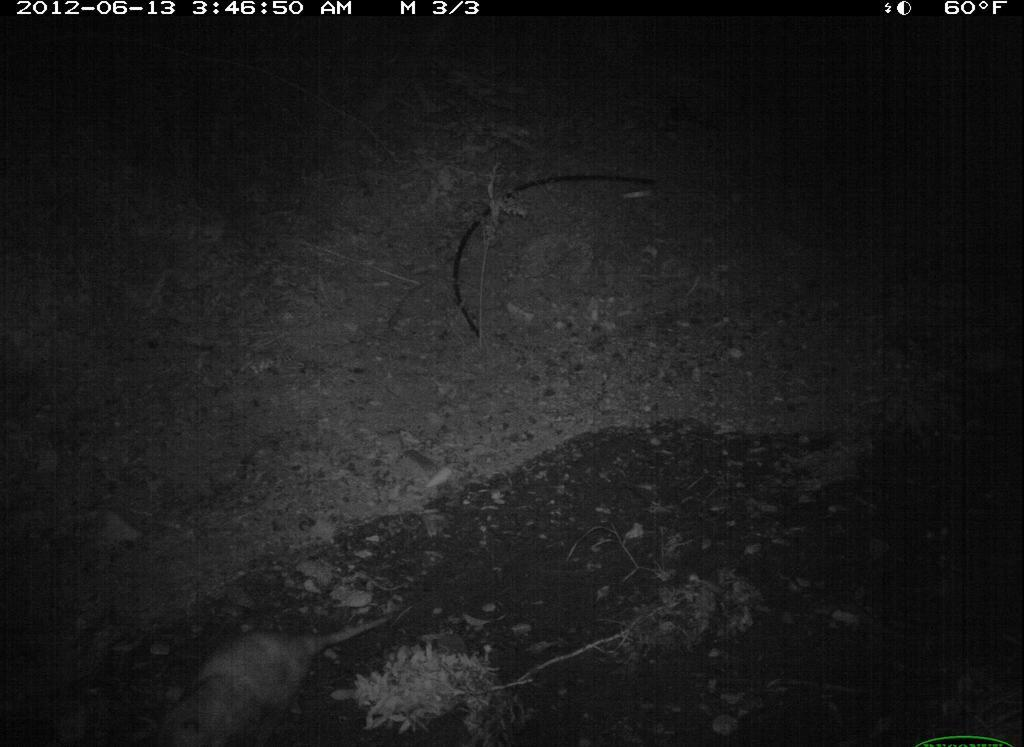opossum: (146, 589, 378, 747)
